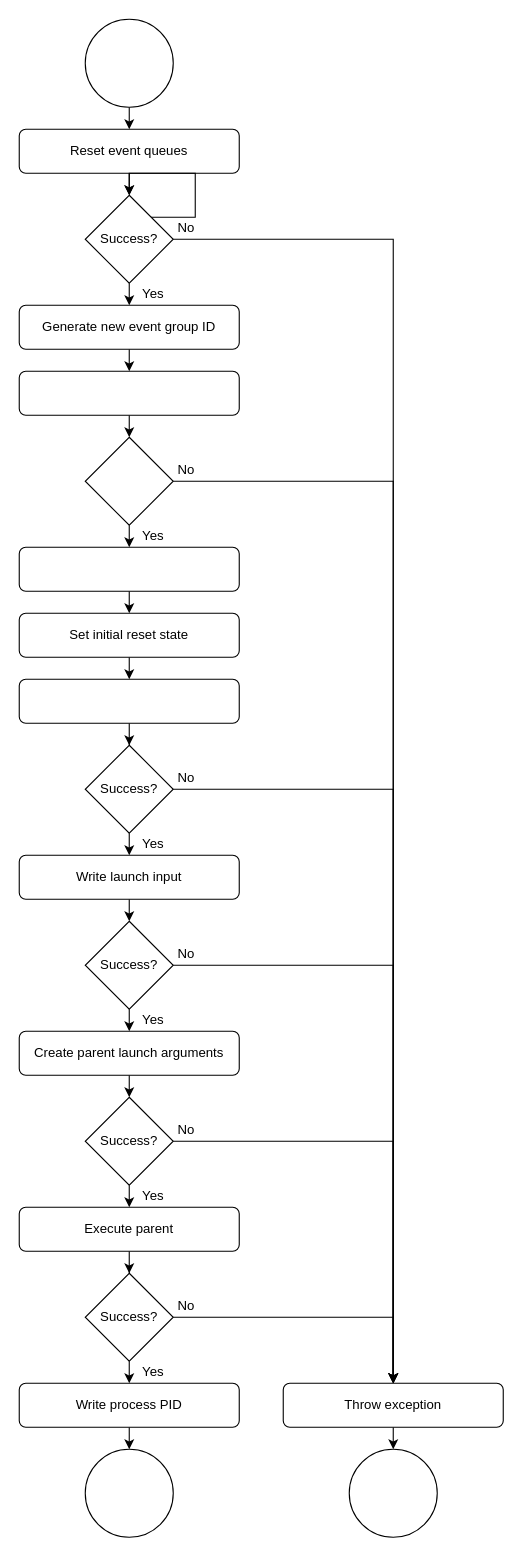
The diagram is 523 pixels wide and 1557 high, and some of its shapes have lost their labels. Each missing label, with the box of its shape:
Launch failed: (348, 1448, 437, 1537)
Launch finished: (84, 1448, 173, 1537)
Launch started: (84, 18, 173, 107)
Set event limits: (18, 546, 239, 591)
Set used event version: (18, 370, 239, 415)
Supported?: (84, 436, 173, 525)
Update used permissions: (18, 678, 239, 723)
